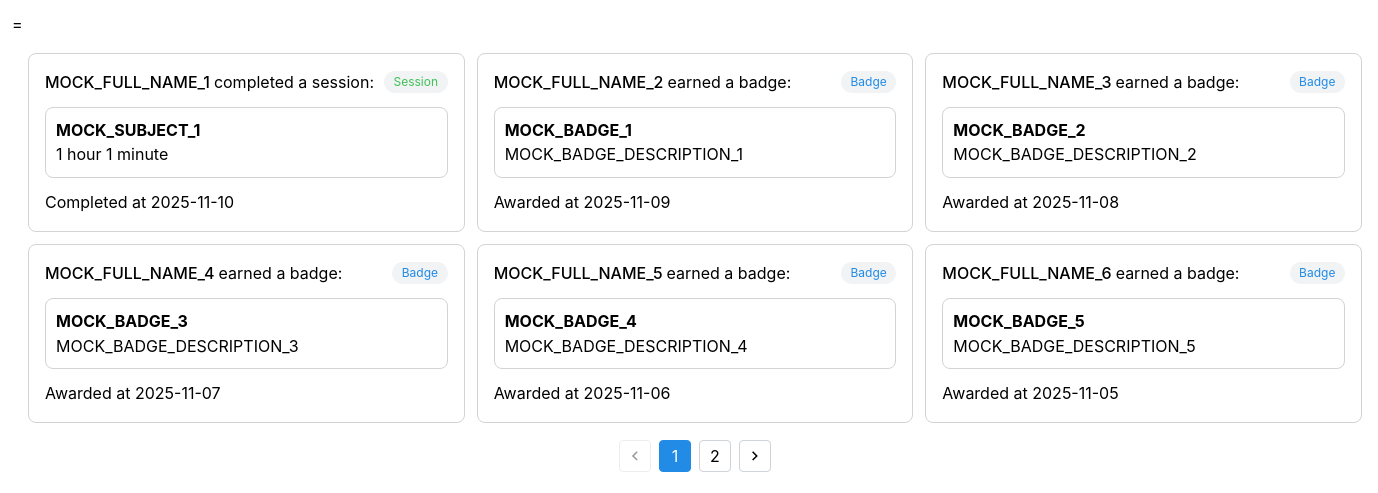
Scenario: HomeActivityFeed › can go to the next page and render that feed
Click the button "2" at (715, 456), box [699, 440, 731, 472]
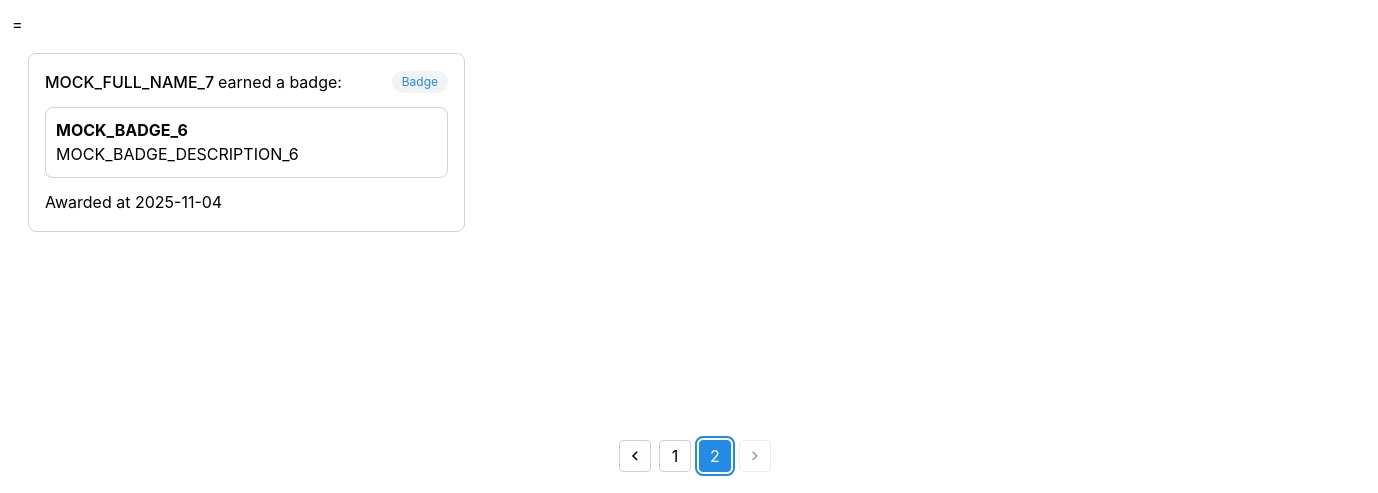
Expected: the text "MOCK_FULL_NAME_6" is gone
Expected: the text "MOCK_BADGE_5" is gone
Expected: the text "MOCK_BADGE_DESCRIPTION_5" is gone
